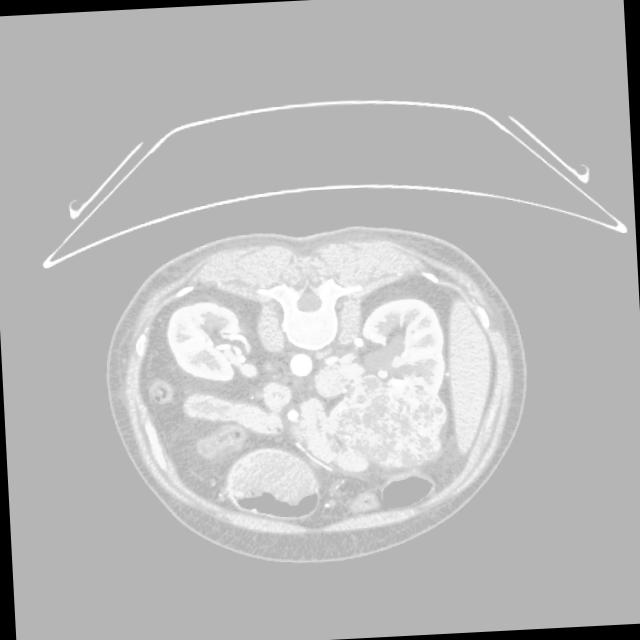TUMOR: (135, 303, 519, 476)
